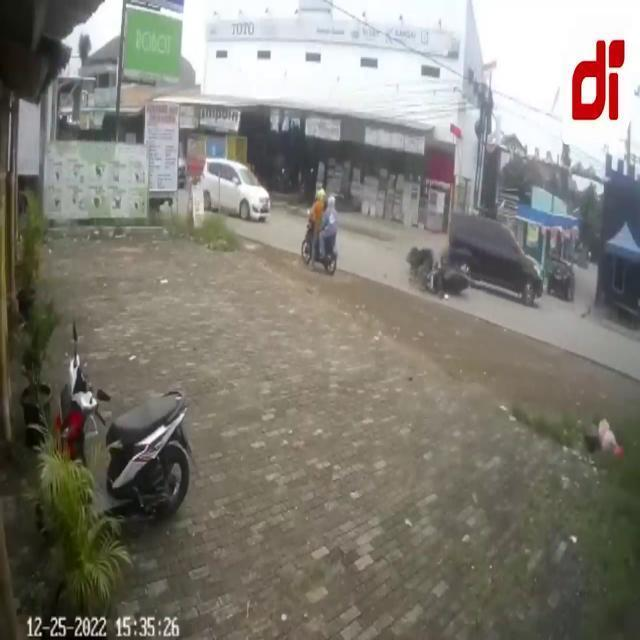accident: (408, 252, 472, 300)
